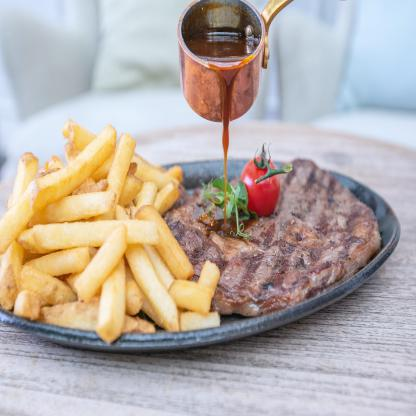Carne: (209, 212, 376, 317), (298, 158, 358, 220)
